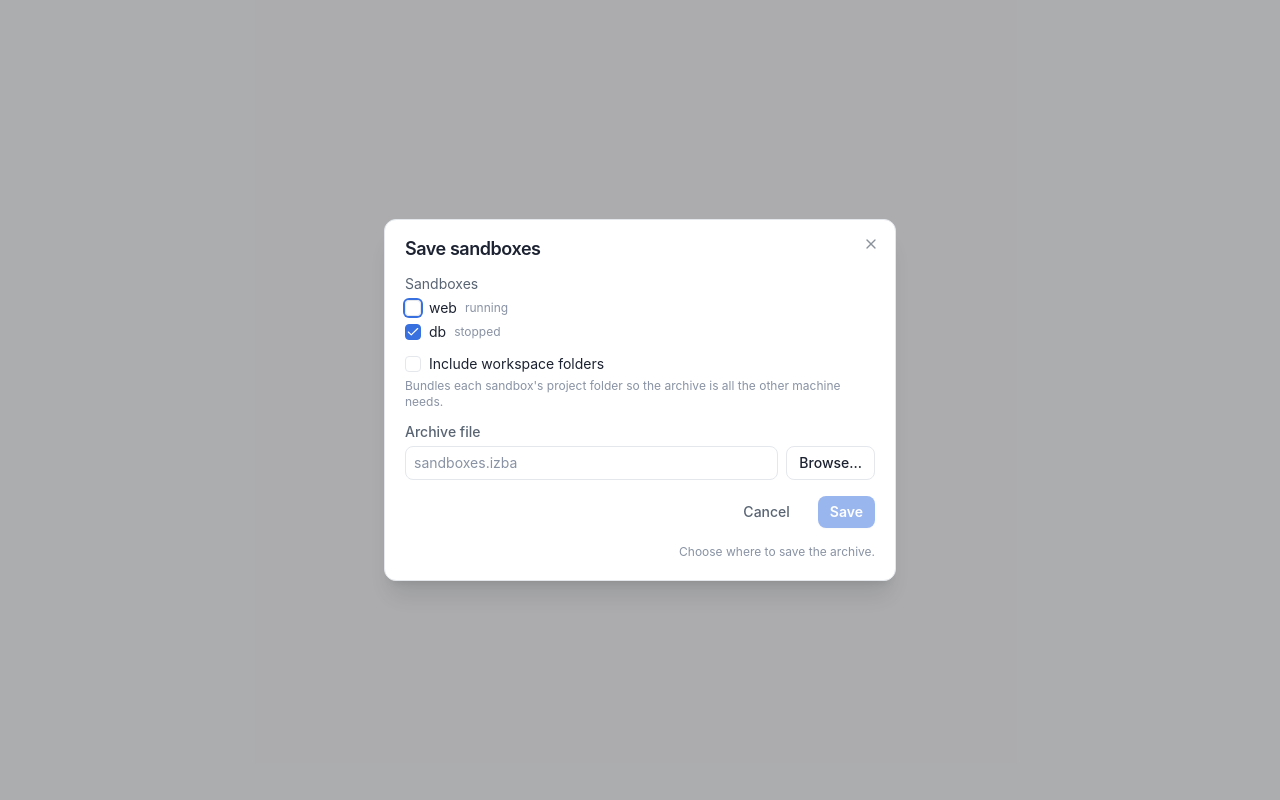
SaveArchive › surfaces a failed save and lets the user retry
This screenshot has width=1280, height=800.
Type "/backups/db.izba" into the field labelled "Archive file" at point(592, 463), box [405, 446, 778, 480]
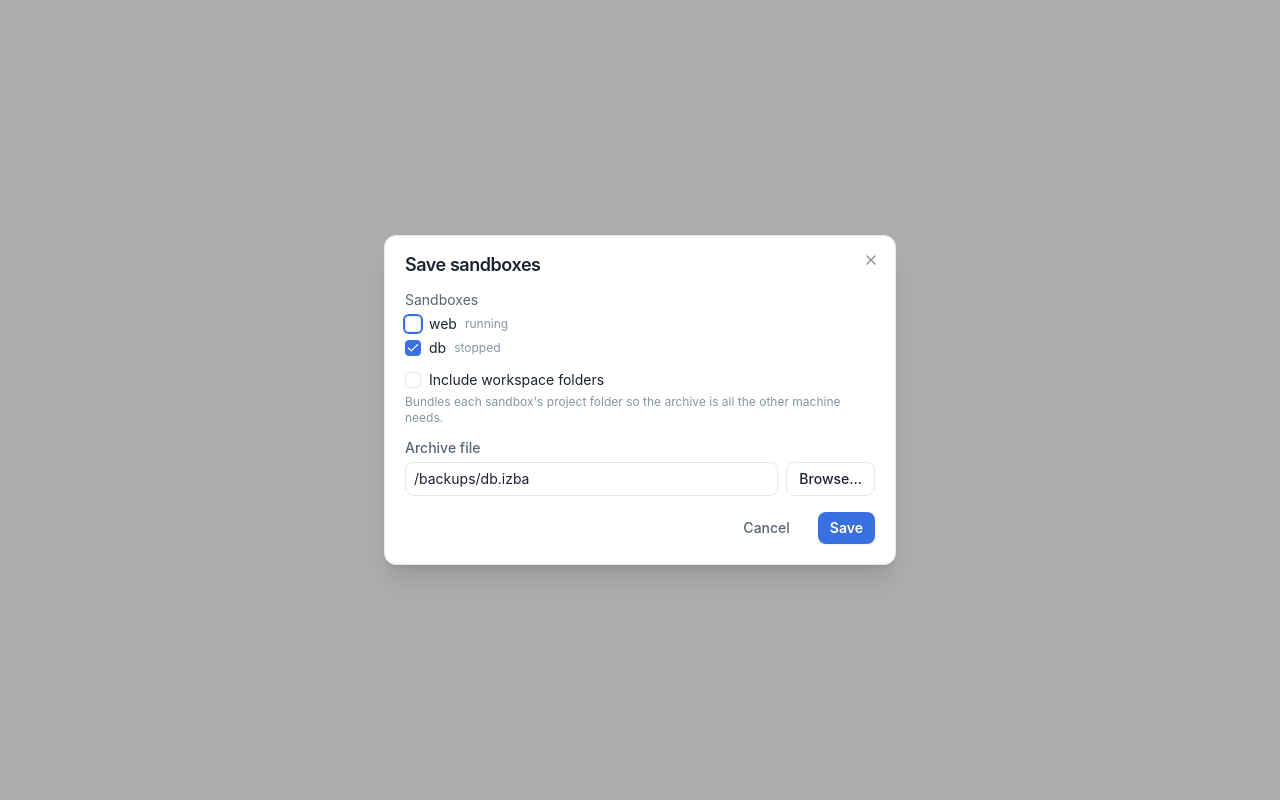
Click the button "Save" at point(846, 528), box [818, 512, 875, 544]
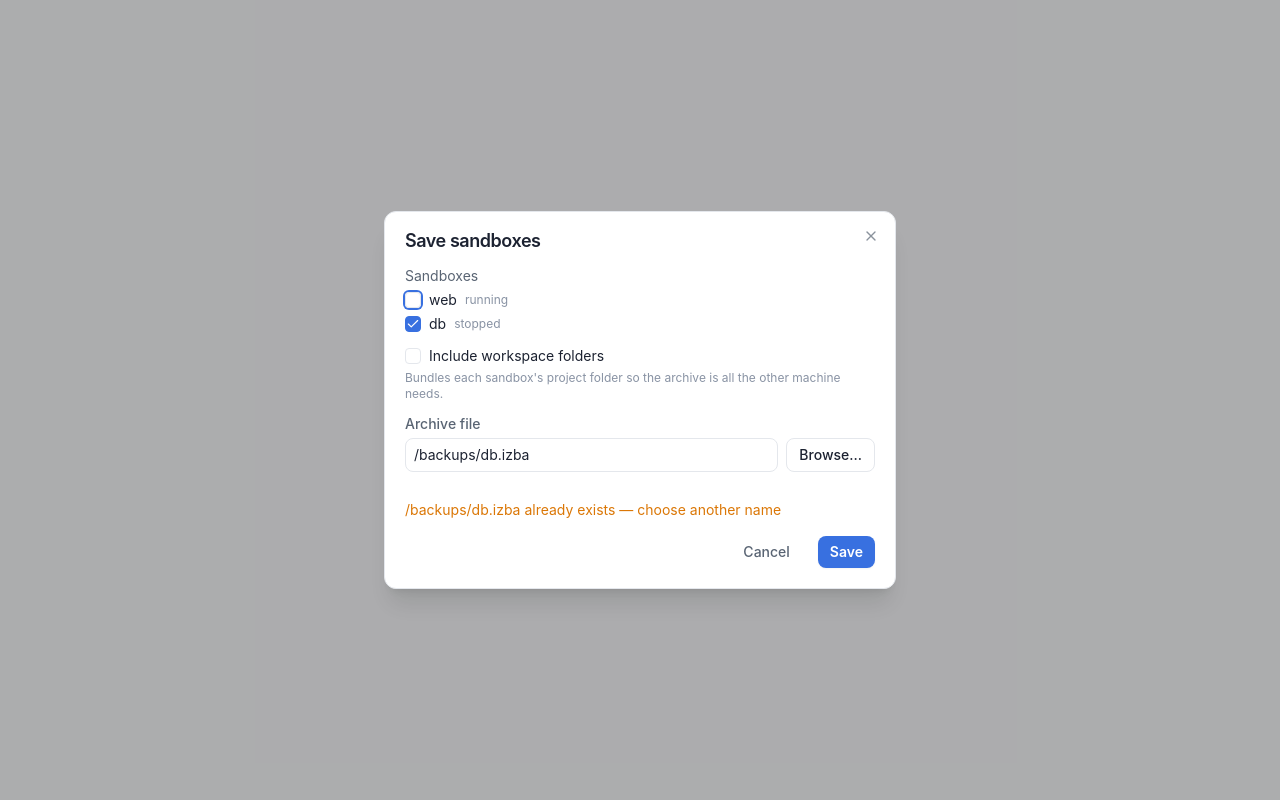
Expected: the button "Save" is enabled, [818, 536, 875, 568]
Expected: the text "/backups/db.izba already exists — choose another name" is shown, [405, 501, 781, 518]
